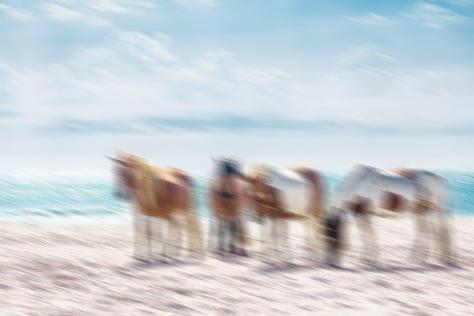horse: (319, 161, 455, 266), (108, 150, 203, 262), (242, 162, 328, 264), (204, 155, 251, 256)
